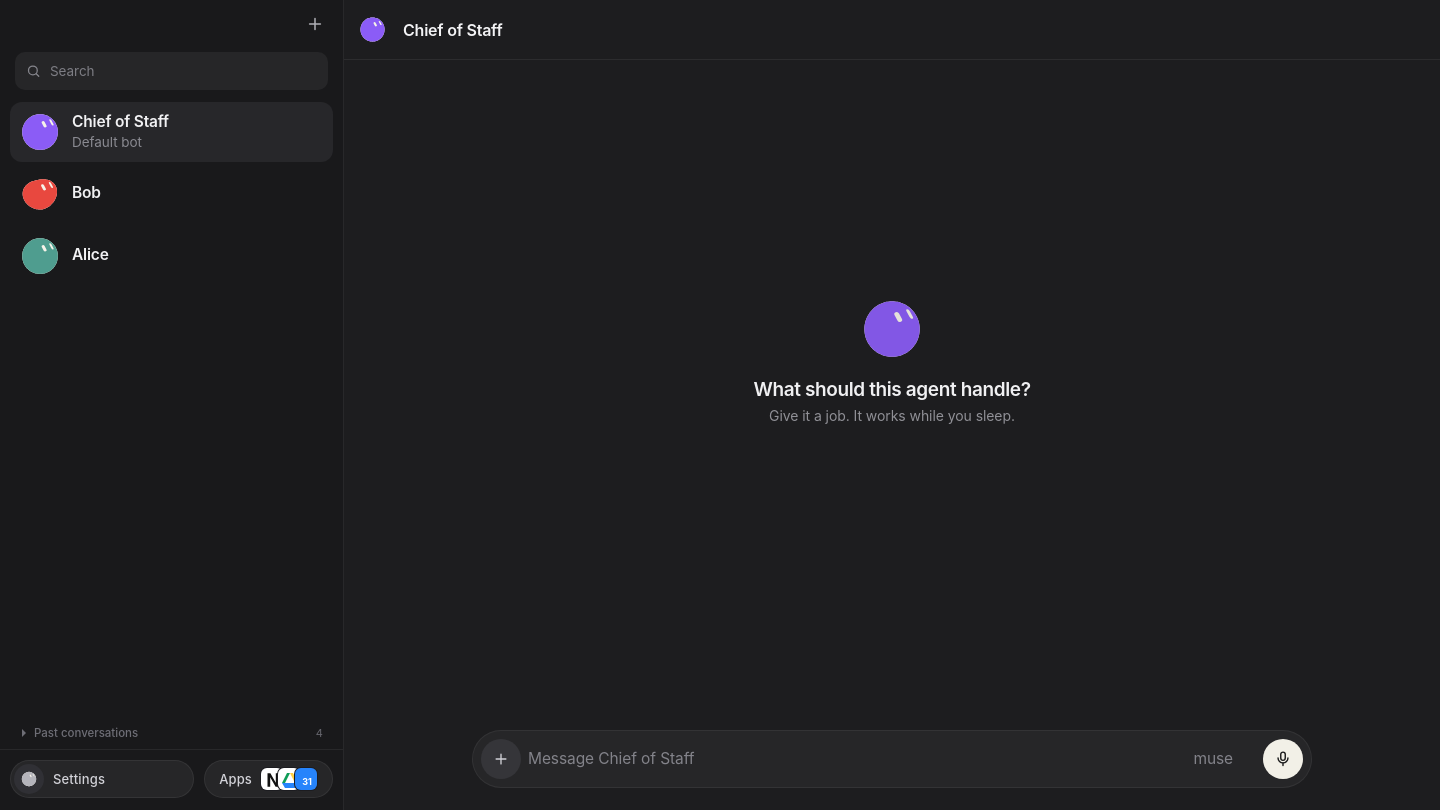
the app › filters the agents as the person searches
In the field named "Search agents": x=172, y=71 [15, 52, 328, 90], type "zzz"
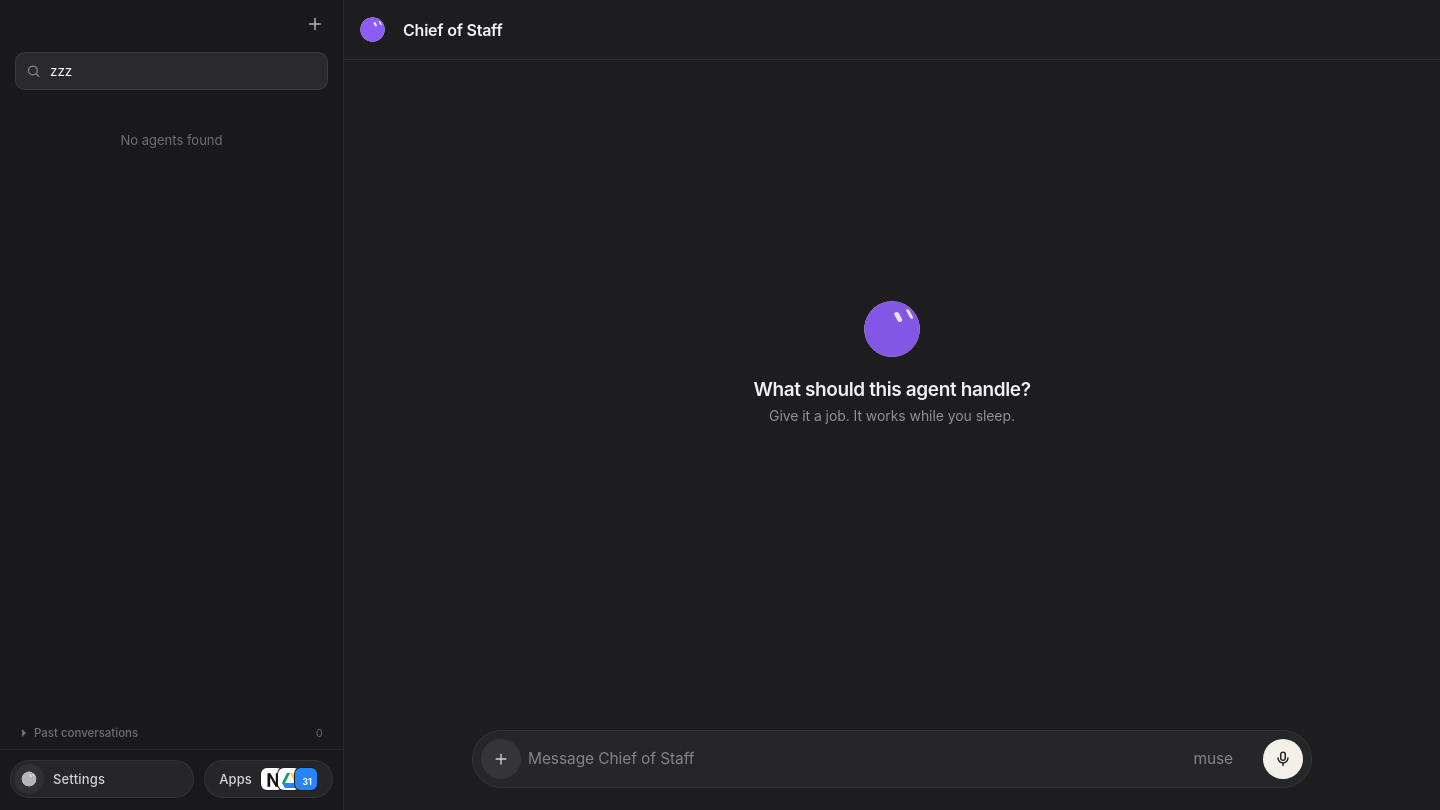
Expected: the text "No agents found" is shown, [120, 132, 222, 148]
